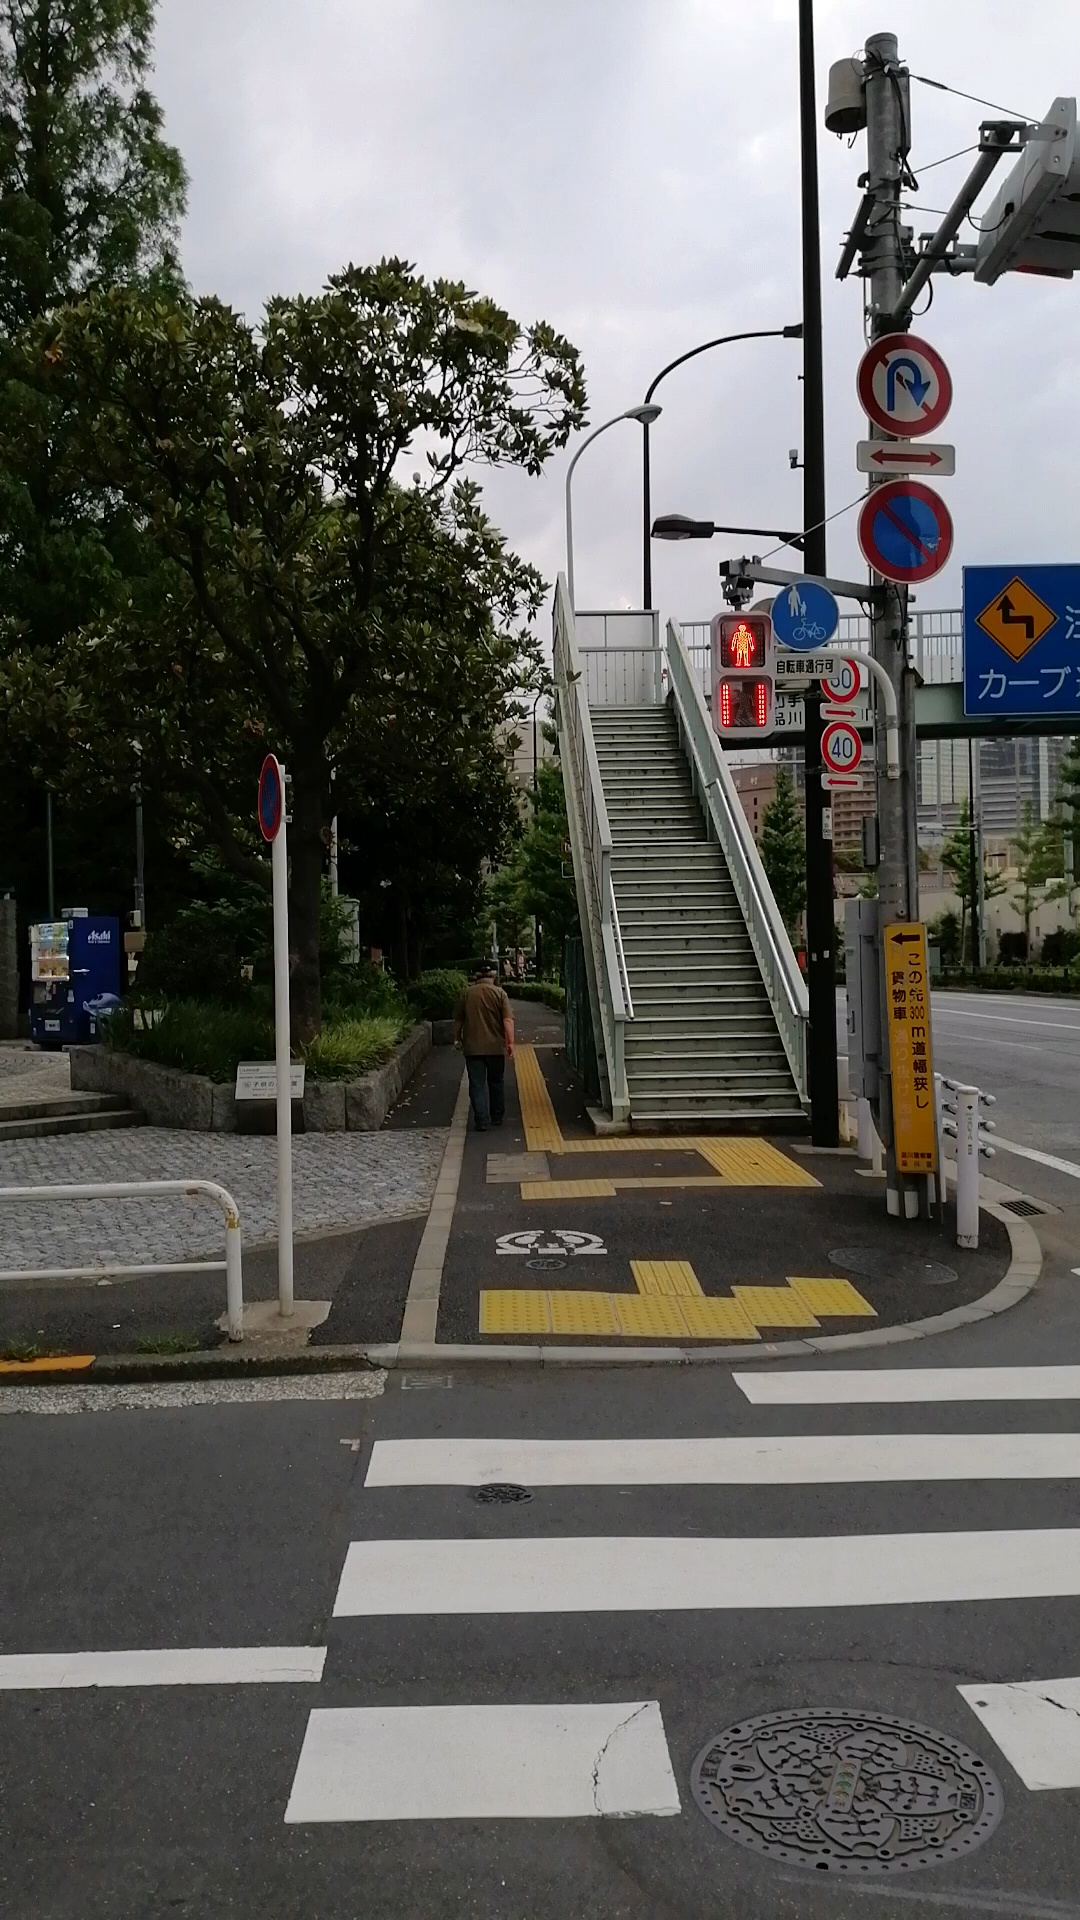red: (709, 609, 775, 737)
